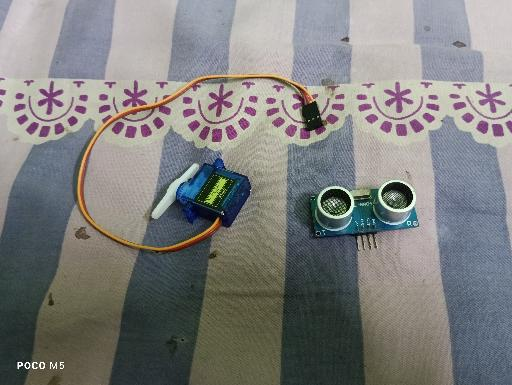Motor: (151, 157, 252, 229)
sensor: (309, 179, 420, 251)
